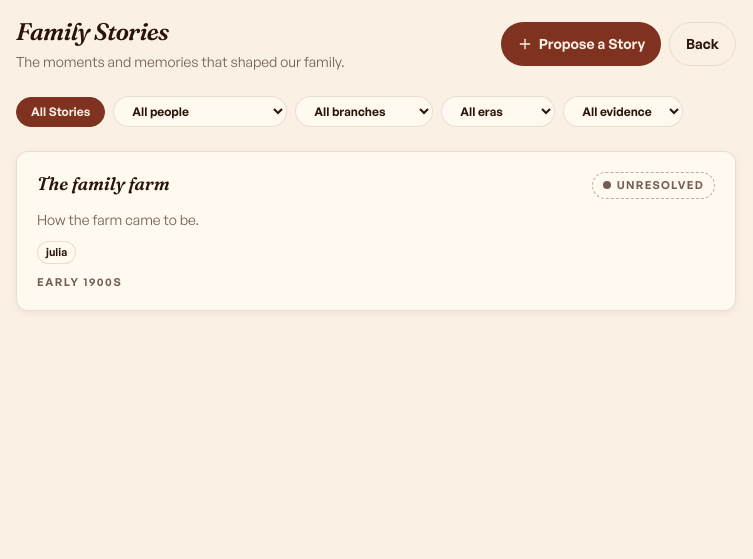
Scenario: StoriesPage under a non-default family: browse and detail journey (cover) › lists the active family's approved stories and opens the family-scoped detail read
Click the button "The family farm" at (103, 184), box [37,172,170,197]
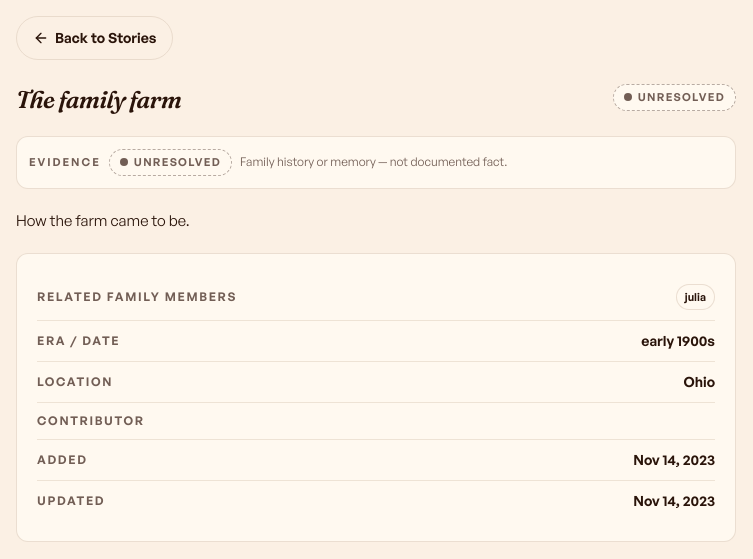
Check: the heading "The family farm" is shown, box [16,84,181,116]
